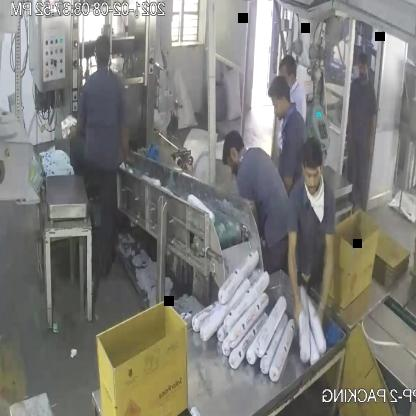no_glove: (312, 216, 340, 327), (287, 216, 303, 326), (361, 108, 379, 164)
